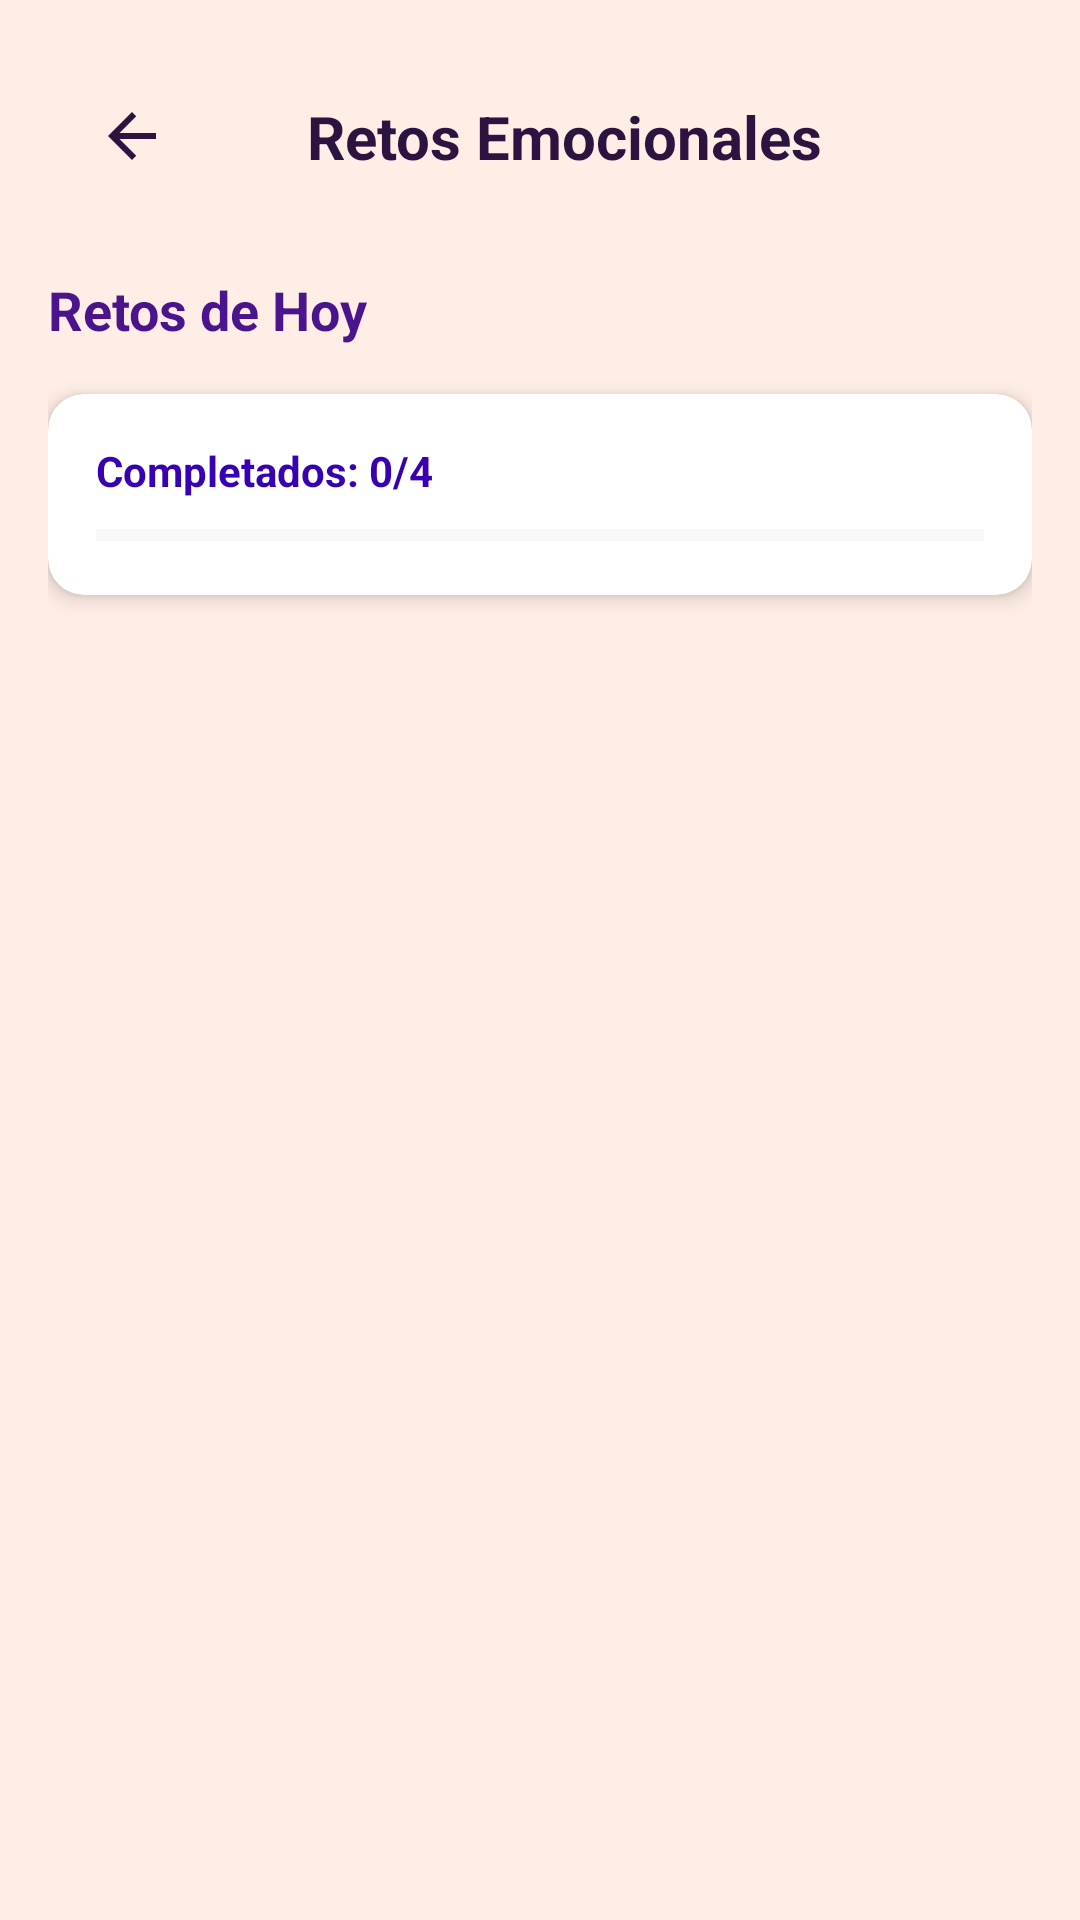

Icons on this 1080 × 1920 Android screen, each with the point to tap as point (x, y):
arrow back: point (132, 136)
